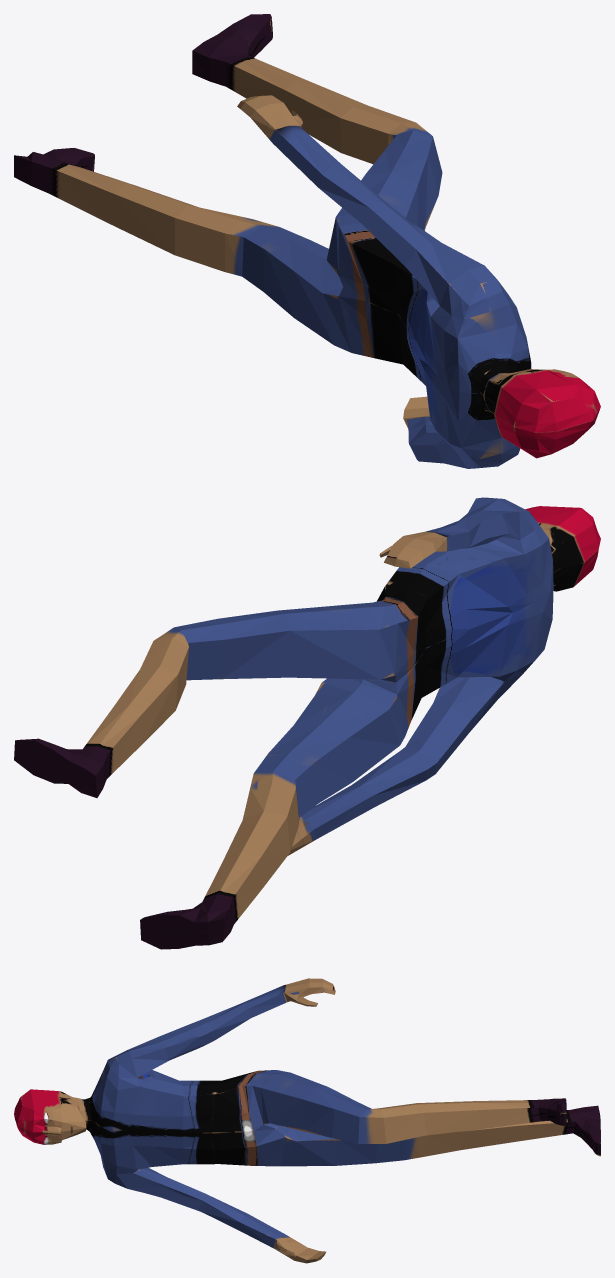
Rendered from mirrorman_000036.obj.
The picture shows the model from 3 angles, top to bottom: view 1: azimuth 30°, elevation 25°; view 2: azimuth 150°, elevation 25°; view 3: azimuth 270°, elevation 25°; orthographic projection. The views are drawn at different scales.
Parts seen in each view (by area): view 1: mirrorman_Cube.001_Material.001; view 2: mirrorman_Cube.001_Material.001; view 3: mirrorman_Cube.001_Material.001.
Part boxes in pixels (left/top/right/bottom): mirrorman_Cube.001_Material.001: left=14, top=14, right=600, bottom=468; mirrorman_Cube.001_Material.001: left=14, top=497, right=600, bottom=949; mirrorman_Cube.001_Material.001: left=14, top=978, right=600, bottom=1263.
Size of the model in its own units: 0.5799 by 0.8067 by 1.87.
